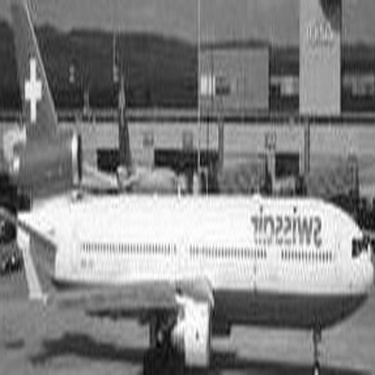airplane: (9, 4, 364, 356)
